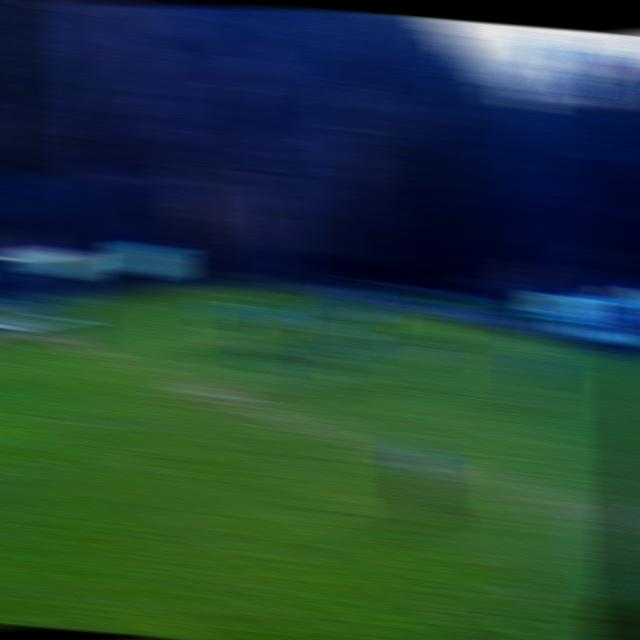bigarea_top_inner: (366, 321, 405, 357)
bottom_arc_area_intersection: (51, 398, 97, 448)
corner: (281, 289, 312, 302)
smallarea_top_inner: (164, 319, 199, 342)
smallarea_top_outter: (116, 310, 147, 326)
top_arc_area_intersection: (277, 350, 314, 380)
